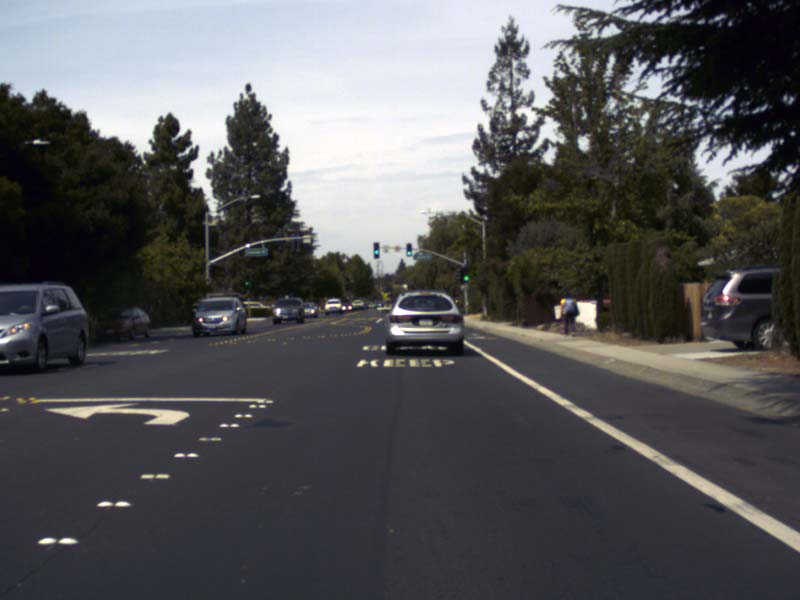Green: (462, 267, 471, 282), (242, 273, 251, 287), (373, 241, 379, 258), (405, 243, 412, 256)
